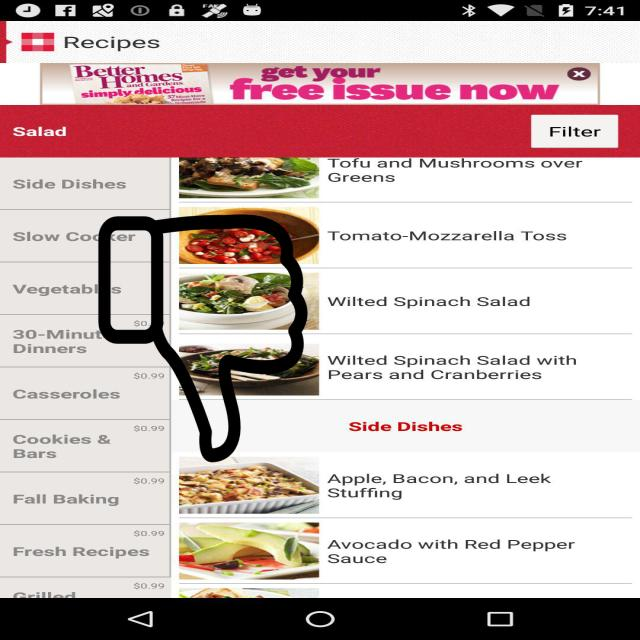obstruction: (96, 215, 310, 462)
